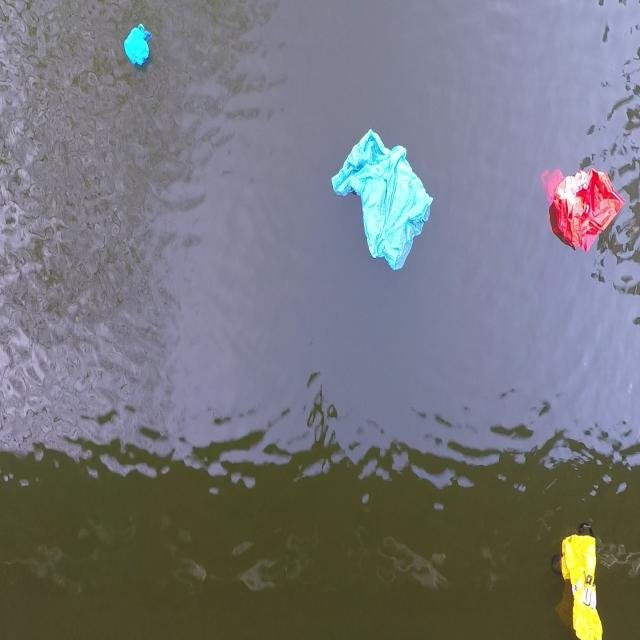Sac plastique: (327, 122, 436, 278), (538, 156, 628, 259), (549, 510, 608, 640), (121, 18, 157, 76)
